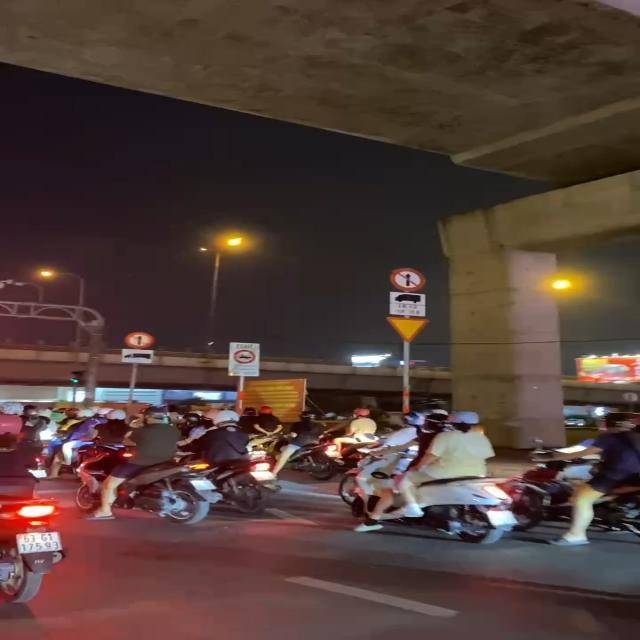136-cam-di-thang: (389, 267, 426, 289), (124, 331, 152, 349)
208-giao-nhau-voi-duong-uu-tien: (383, 316, 429, 342)
